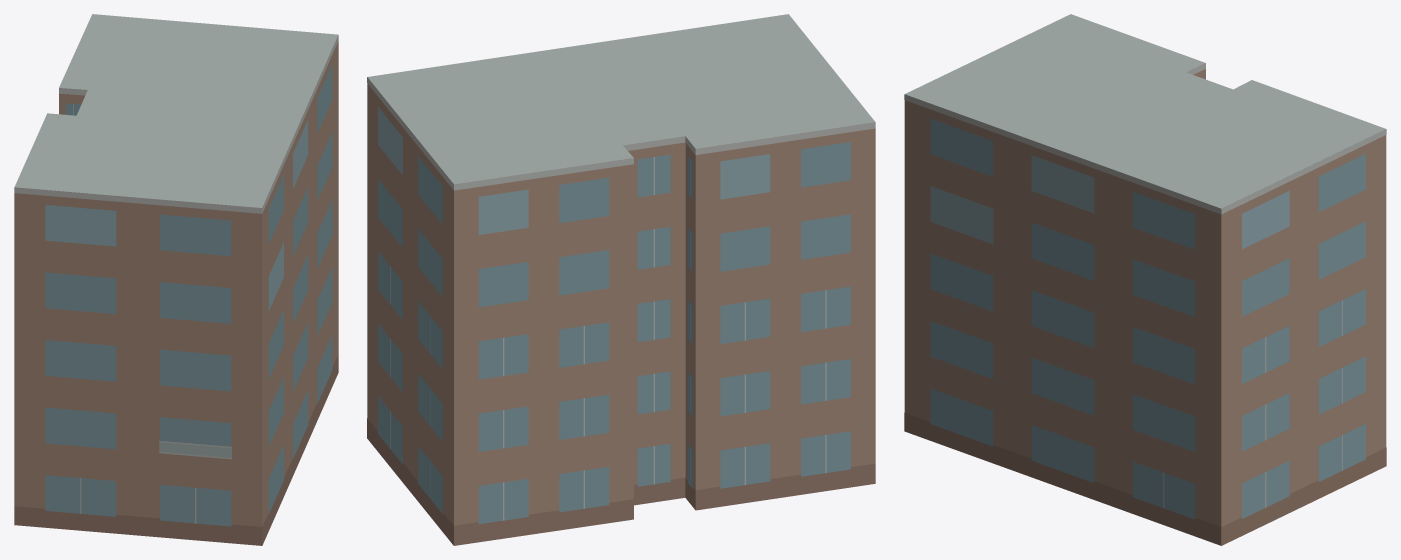
File: survey-upis-32883922.glb
3 views of the same model, side by side, from view 1: azimuth 30°, elevation 25°; view 2: azimuth 150°, elevation 25°; view 3: azimuth 270°, elevation 25° (orthographic). The views are drawn at different scales.
Parts seen in each view (by area): view 1: survey-upis-32883922.tmp; view 2: survey-upis-32883922.tmp; view 3: survey-upis-32883922.tmp.
Part boxes in pixels (bbox=[...]): survey-upis-32883922.tmp: bbox=[14, 14, 338, 545]; survey-upis-32883922.tmp: bbox=[367, 14, 875, 545]; survey-upis-32883922.tmp: bbox=[904, 14, 1386, 545].
Bounding box in the file's own units: 17.59 × 14.2 × 18.4.
